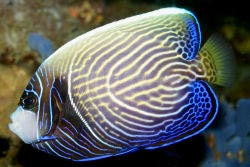Pomacanthus_imperator: (4, 2, 242, 161)
